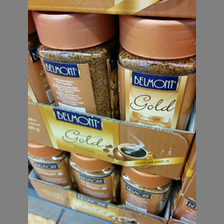coffee: (30, 10, 119, 117), (115, 16, 196, 133)
